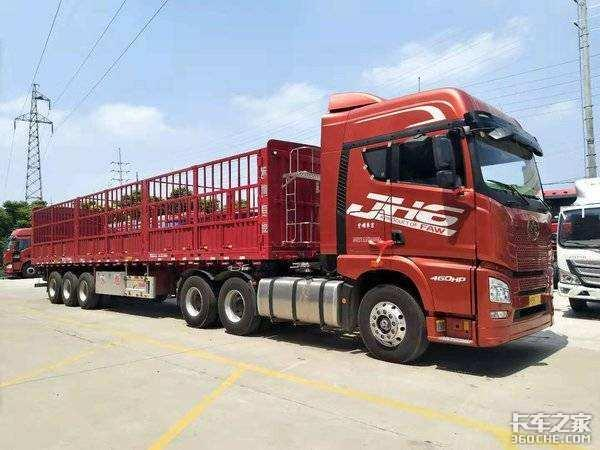truck: (19, 78, 566, 367)
